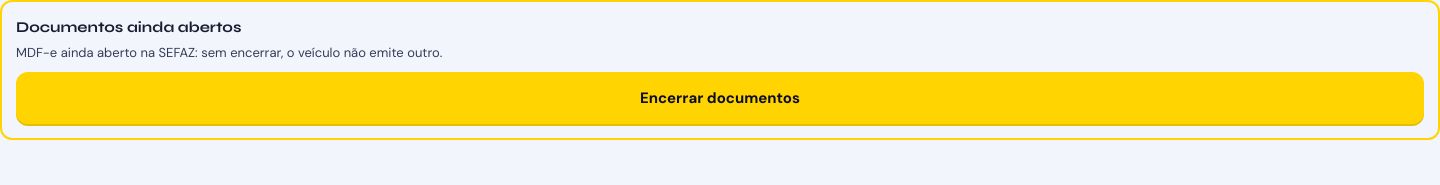
Test: avisa do MDF-e aberto e chama a rota de encerramento
The image size is (1440, 185).
Expected: the text "MDF-e ainda aberto na SEFAZ: sem encerrar, o veículo não emite outro." is shown, [16,44,442,60]
Click the button "Encerrar documentos" at point(720, 98), box [16,72,1424,124]
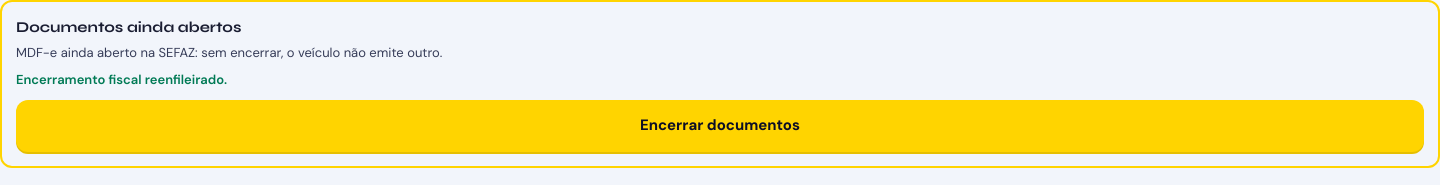
Expected: the message shows "reenfileirado", [16,71,227,88]
